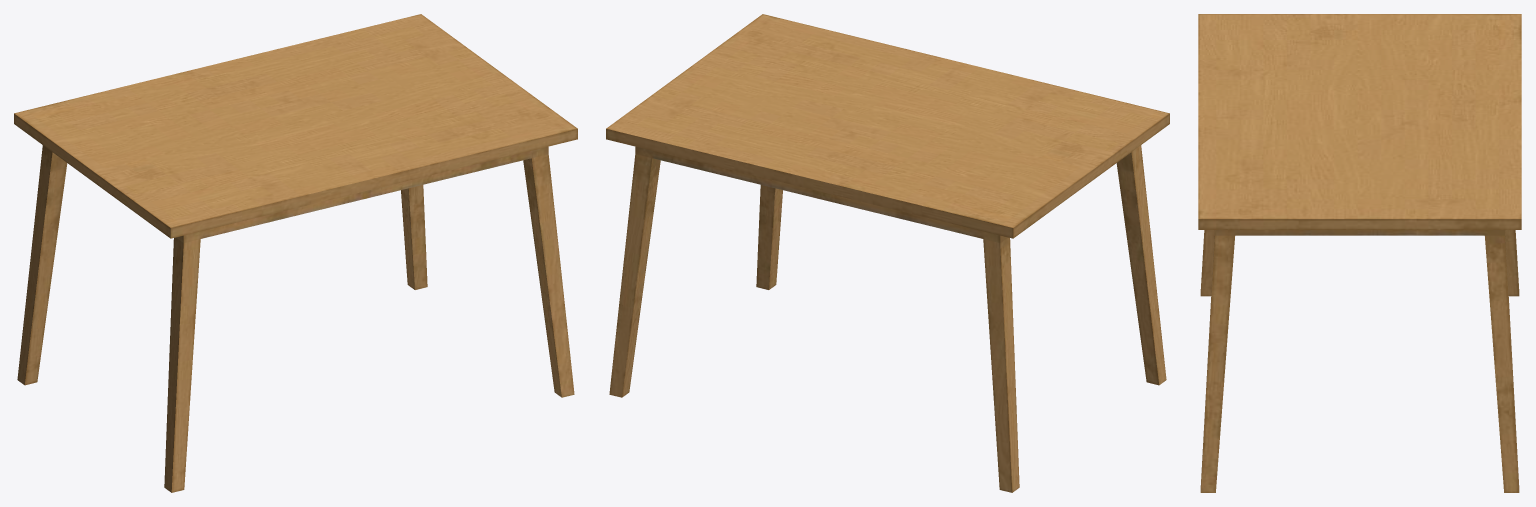
Rendered from mesa_a.glb.
3 renders of one model, left to right at view 1: azimuth 30°, elevation 25°; view 2: azimuth 150°, elevation 25°; view 3: azimuth 270°, elevation 25°, orthographic. The views are drawn at different scales.
Visible parts, largest first — view 1: mesa_a; view 2: mesa_a; view 3: mesa_a.
Boxes of the visible parts, <box> form: mesa_a: <box>14,14,577,492</box>; mesa_a: <box>606,14,1169,492</box>; mesa_a: <box>1198,14,1521,492</box>.
Bounding box in the file's own units: 1.2 × 0.75 × 0.8.
Materials: 1 (1 with a texture image).
